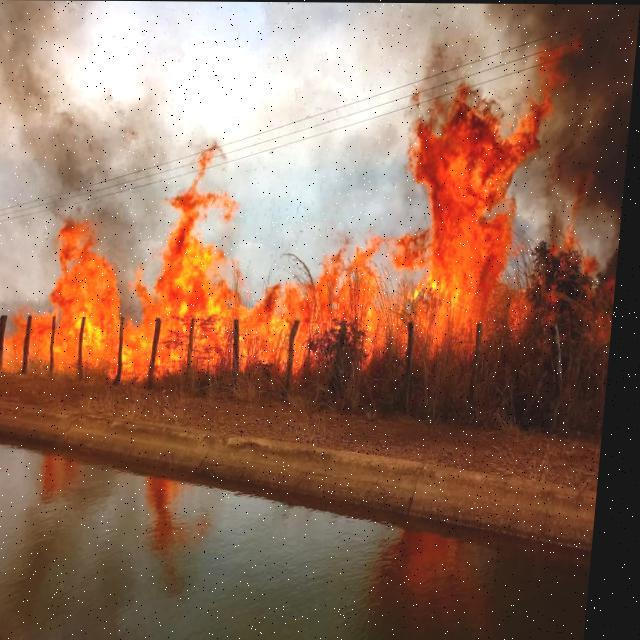Fire: (0, 72, 629, 388)
